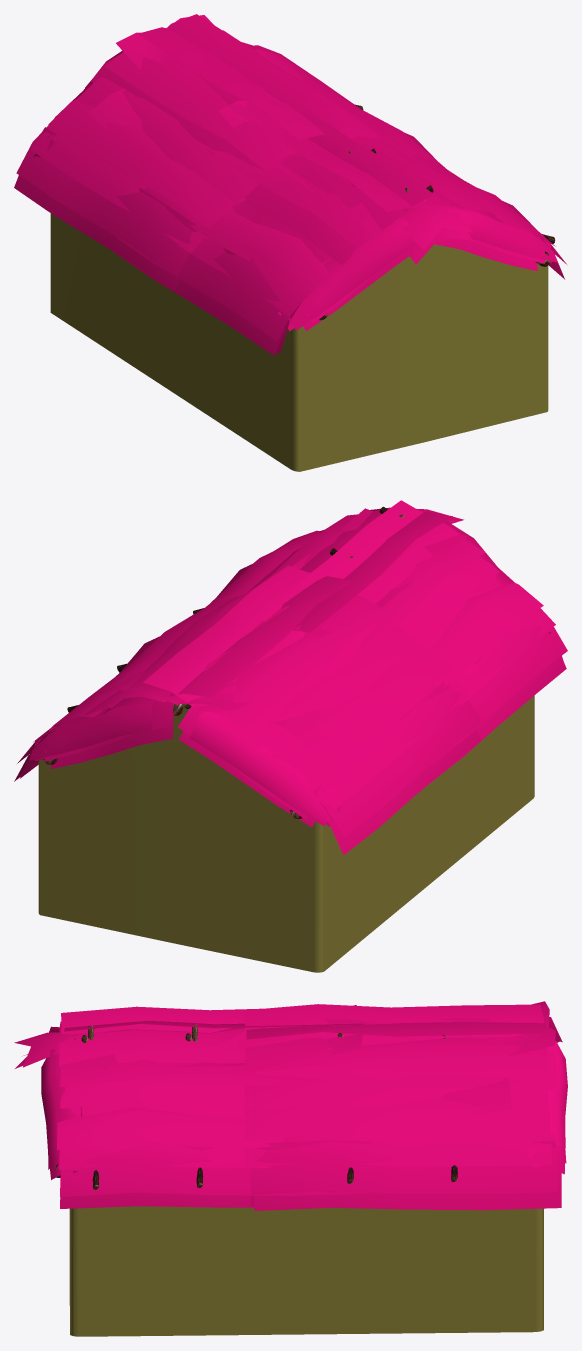
3 views of the same model, one above another, from view 1: azimuth 30°, elevation 25°; view 2: azimuth 150°, elevation 25°; view 3: azimuth 270°, elevation 25° (orthographic). The views are drawn at different scales.
Parts seen in each view (by area): view 1: Ev_2; view 2: Ev_2; view 3: Ev_2.
Part boxes in pixels (left/top/right/bottom): Ev_2: left=14, top=14, right=566, bottom=471; Ev_2: left=14, top=500, right=567, bottom=972; Ev_2: left=14, top=1001, right=567, bottom=1336.
Bounding box in the file's own units: 560 × 427 × 848.
